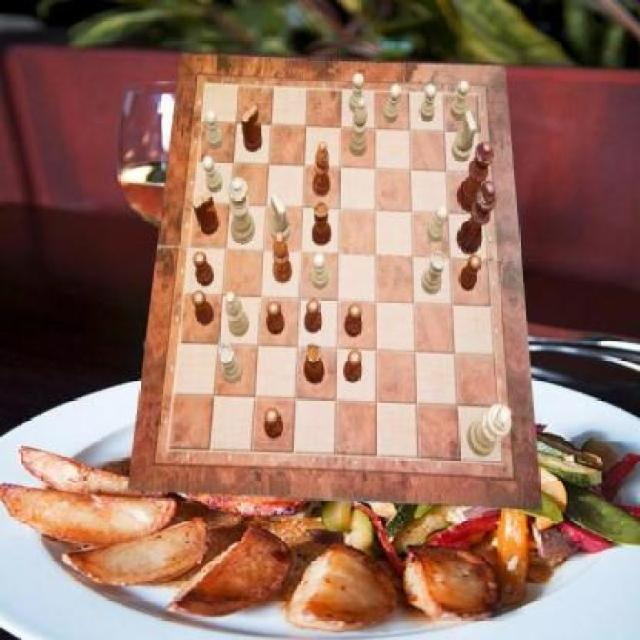bishop: (274, 232, 294, 285), (314, 142, 331, 196)
black-bishop: (457, 180, 497, 255)
black-king: (194, 192, 220, 236), (242, 105, 262, 152)
black-knight: (460, 256, 483, 292), (192, 291, 215, 325), (194, 251, 214, 285), (343, 349, 362, 383), (264, 408, 284, 440), (345, 303, 362, 338), (268, 302, 285, 336), (305, 299, 322, 333)
black-pawn: (457, 142, 495, 212)
black-queen: (312, 201, 332, 247), (304, 344, 326, 384)
black-rook: (224, 291, 248, 336), (349, 97, 367, 155)
white-bishop: (468, 403, 512, 457)
white-king: (452, 110, 477, 162), (271, 194, 291, 243)
white-knight: (203, 155, 223, 193), (428, 205, 448, 242), (312, 252, 330, 290), (383, 85, 401, 123), (206, 111, 223, 151), (451, 80, 468, 120), (419, 83, 436, 122), (351, 74, 366, 114)
white-pawn: (229, 177, 257, 243)
white-queen: (422, 251, 448, 293), (219, 344, 243, 384)
